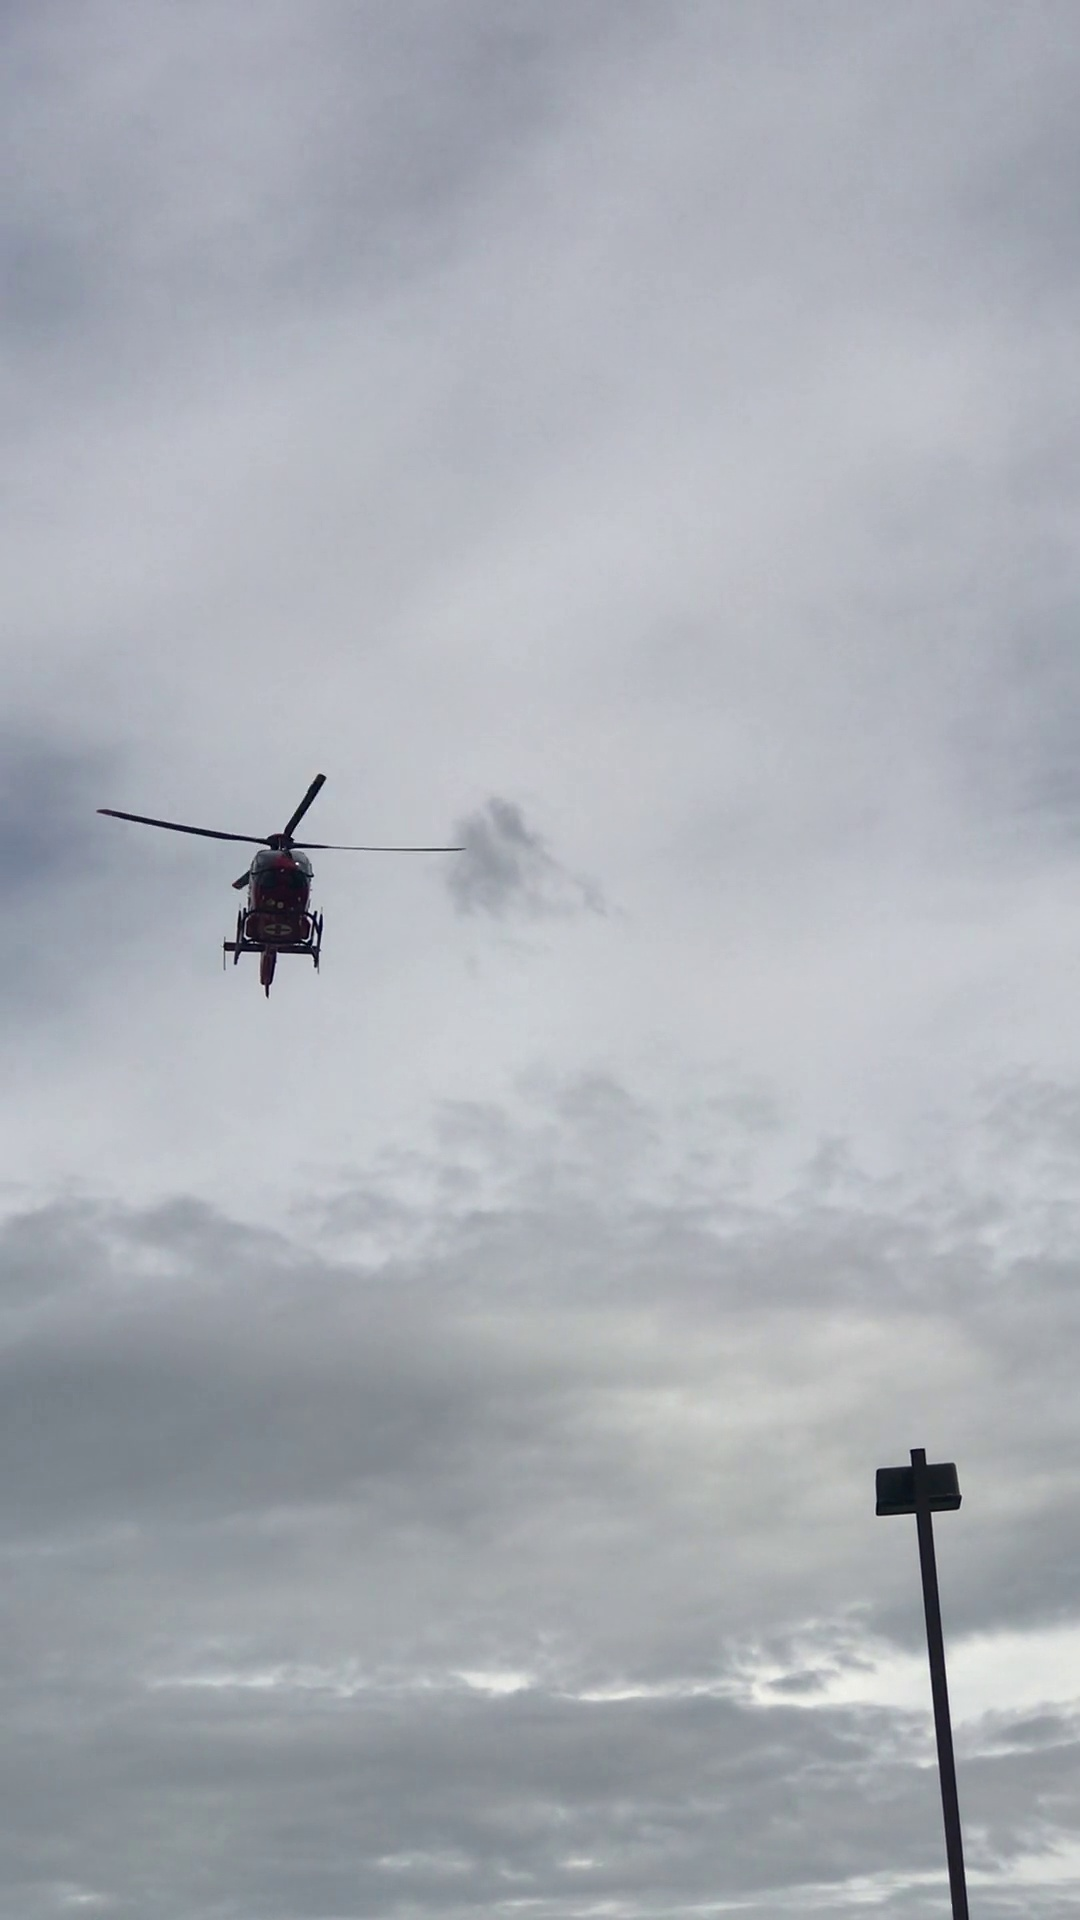heli: (96, 770, 464, 998)
